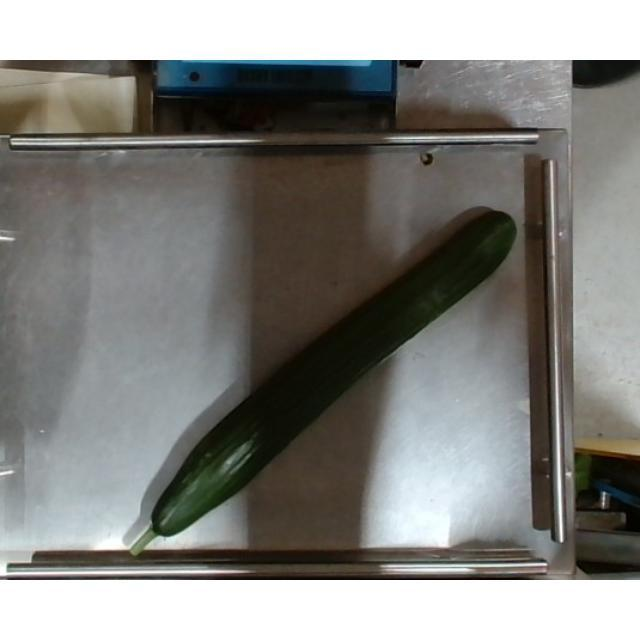cucumber: (130, 210, 516, 556)
